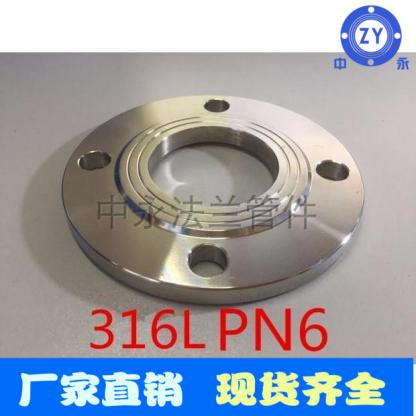FOD: (57, 90, 368, 304)
